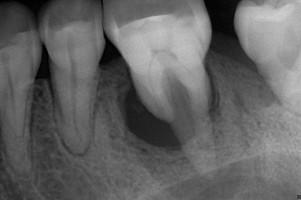Dental Caries: (123, 84, 182, 148), (205, 61, 221, 121)
